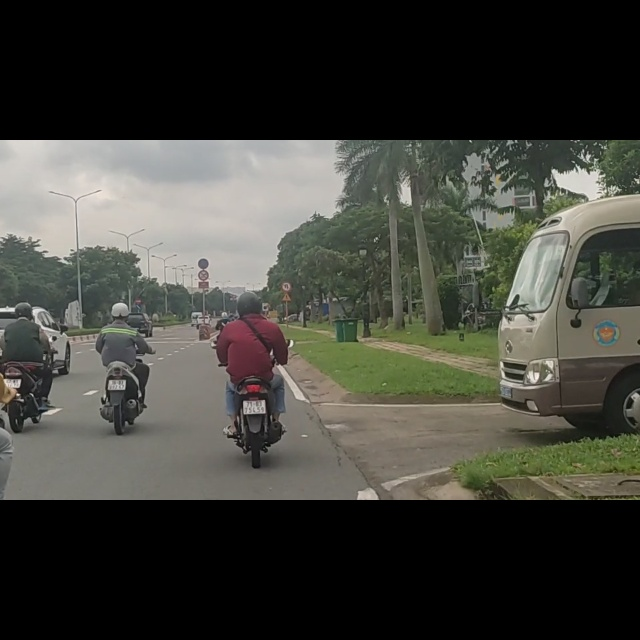bien_nguy_hiem: (198, 211, 209, 230), (199, 231, 209, 250), (282, 251, 292, 270), (281, 271, 292, 288), (135, 281, 142, 292), (135, 292, 142, 302)
